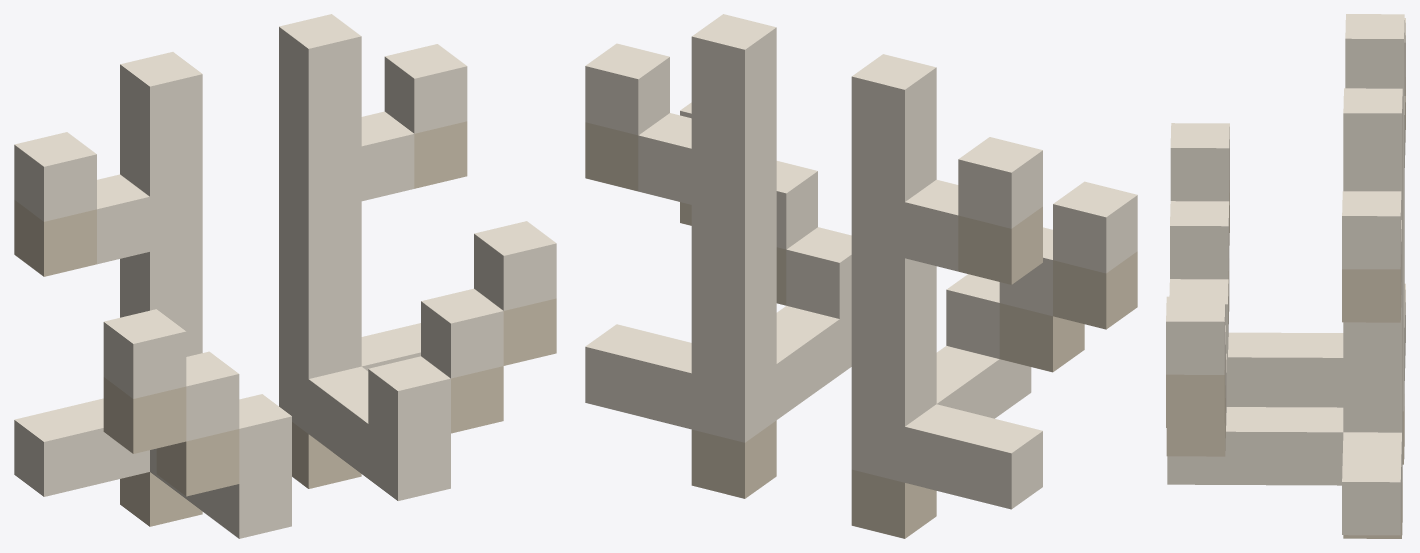
File: bone_antlers_model.glb
The picture shows the model from 3 angles, left to right: view 1: azimuth 30°, elevation 25°; view 2: azimuth 150°, elevation 25°; view 3: azimuth 270°, elevation 25°; orthographic projection. The views are drawn at different scales.
Visible parts, largest first — view 1: Untitled.001; view 2: Untitled.001; view 3: Untitled.001.
Part boxes in pixels (box(x1,y1,x2,y2)): Untitled.001: box(14, 14, 556, 538); Untitled.001: box(585, 14, 1137, 538); Untitled.001: box(1166, 14, 1405, 538).
Bounding box in the file's own units: 8.04 × 8 × 4.09.
1 material, 1 textured.
